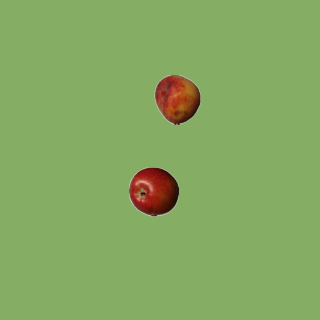Apple Braeburn: (128, 166, 178, 216)
Peach: (152, 74, 202, 124)
